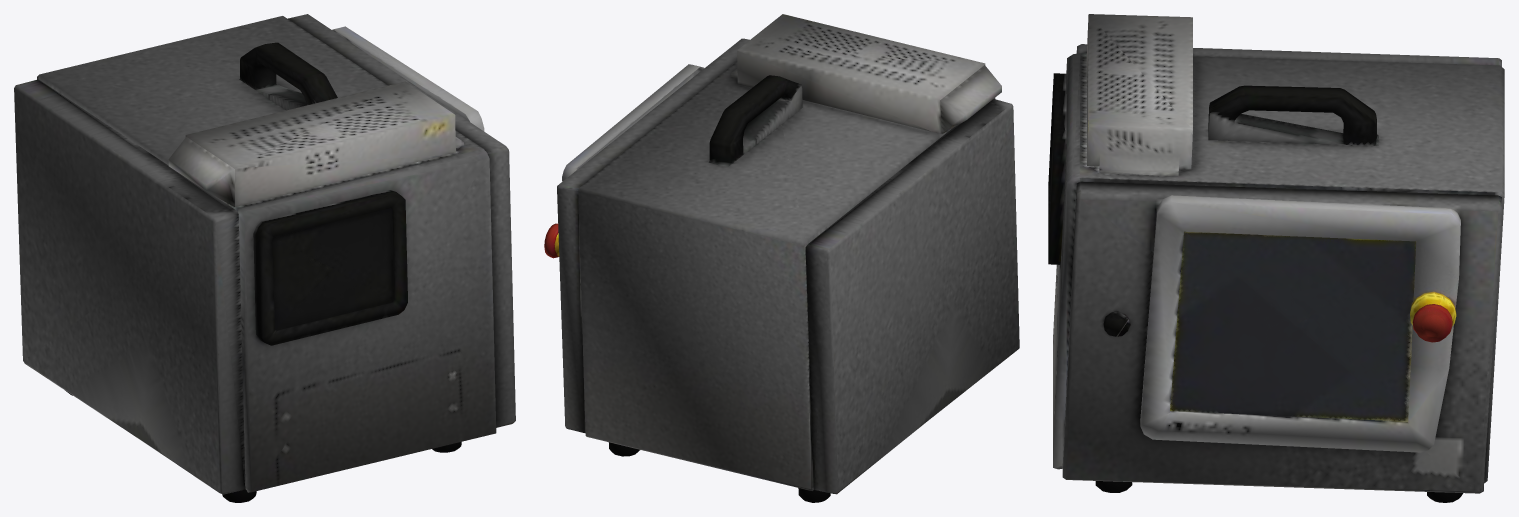
File: tripo_convert_cdd9c0ed-9b12-44bd-a9d2-cd208eede4d3.fbx
3 views of the same model, side by side, from view 1: azimuth 30°, elevation 25°; view 2: azimuth 150°, elevation 25°; view 3: azimuth 270°, elevation 25° (orthographic). The views are drawn at different scales.
Visible parts, largest first — view 1: tripo_node_cdd9c0ed; view 2: tripo_node_cdd9c0ed; view 3: tripo_node_cdd9c0ed.
Part boxes in pixels (box(x1,y1,x2,y2)): tripo_node_cdd9c0ed: box(14, 14, 515, 502); tripo_node_cdd9c0ed: box(544, 14, 1019, 502); tripo_node_cdd9c0ed: box(1048, 14, 1504, 502).
Bounding box in the file's own units: 0.8887 × 0.8965 × 0.998.
Materials: 1 (1 with a texture image).
